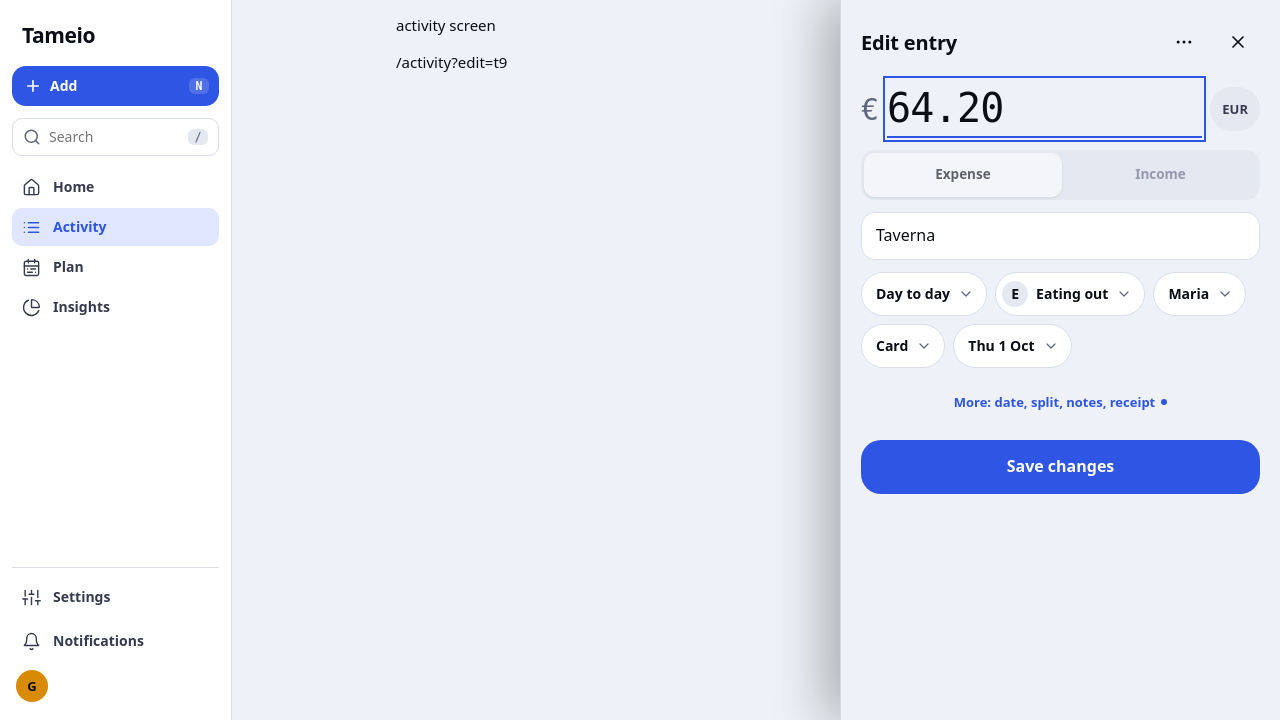
Scenario: edit mode (?edit=<id>) closes after a save
Replace the text in the field named "Amount" with "70" at (1045,109), box [887, 80, 1202, 138]
Then press Enter
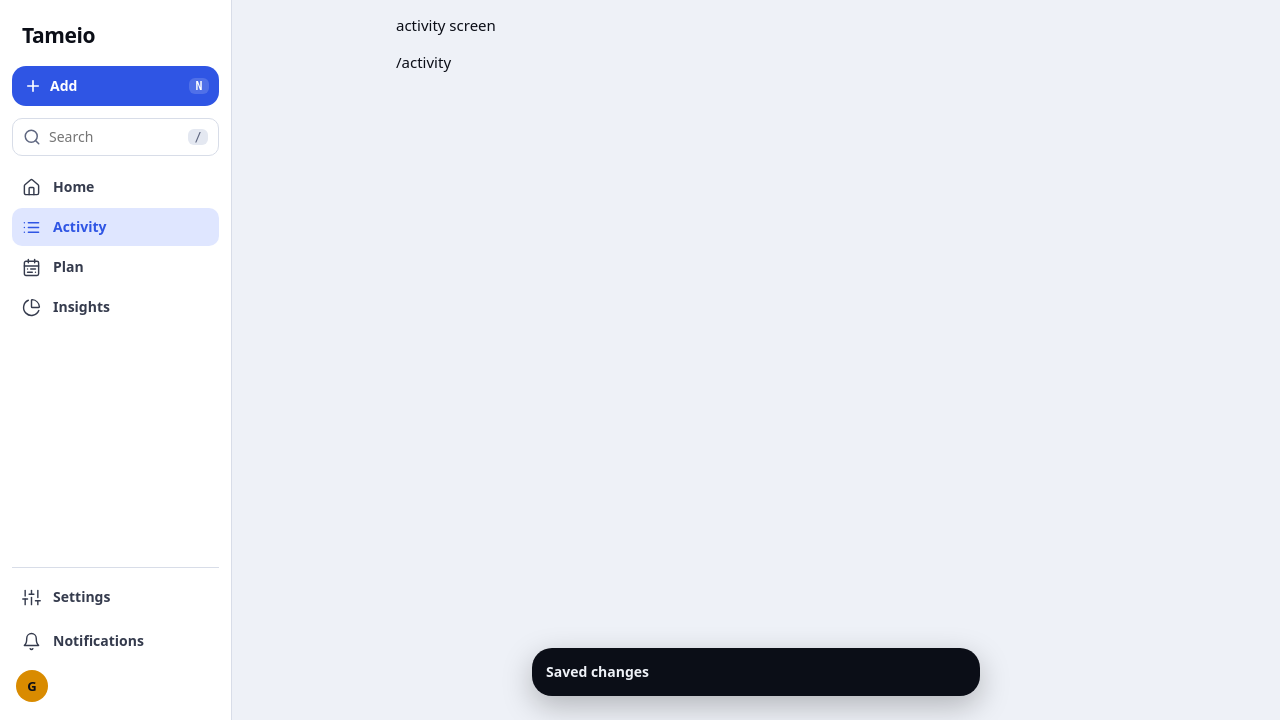
Expected: the text with test id "where" reads "/activity", [396, 52, 451, 72]
Expected: the heading "entry" is gone
Expected: the text "Saved changes" is shown, [546, 662, 649, 681]
